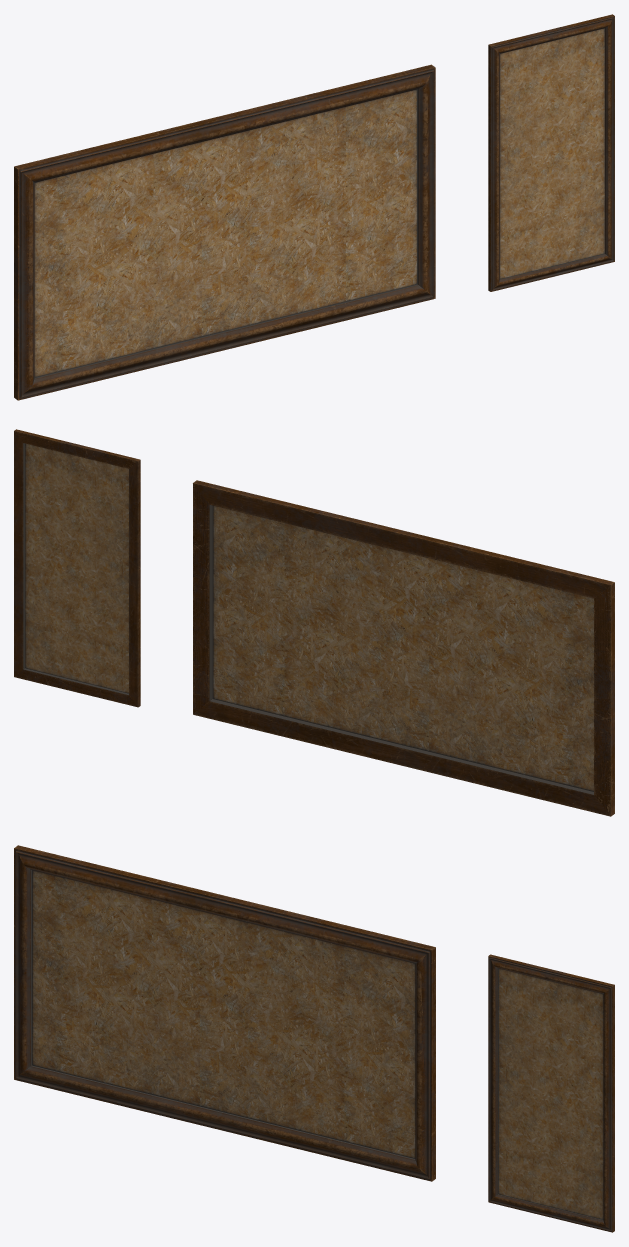
File: board.glb
3 views of the same model, one above another, from view 1: azimuth 30°, elevation 25°; view 2: azimuth 150°, elevation 25°; view 3: azimuth 330°, elevation 25° (orthographic).
Parts seen in each view (by area): view 1: 01__0, 02__0; view 2: 01__0, 02__0; view 3: 01__0, 02__0.
Part boxes in pixels (left/top/right/bottom): 01__0: left=14, top=64, right=435, bottom=400; 02__0: left=488, top=14, right=614, bottom=291; 01__0: left=193, top=480, right=614, bottom=816; 02__0: left=14, top=429, right=140, bottom=707; 01__0: left=14, top=845, right=435, bottom=1181; 02__0: left=488, top=954, right=614, bottom=1232.
Bounding box in the file's own units: 1078 × 424 × 18.27.
1 material, 1 textured.
